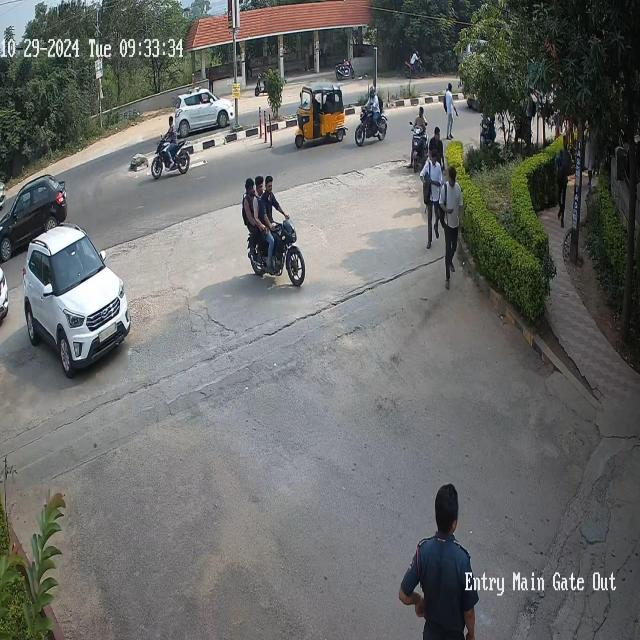triple_rider: (241, 174, 305, 288)
